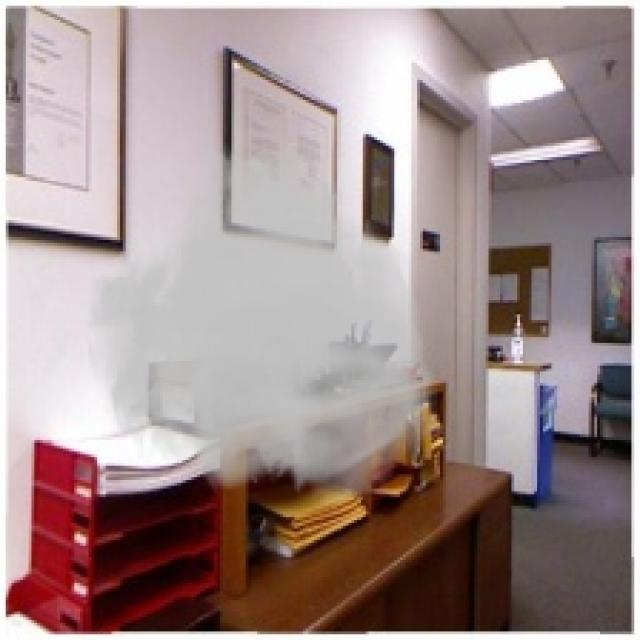smoke: (83, 128, 440, 508)
